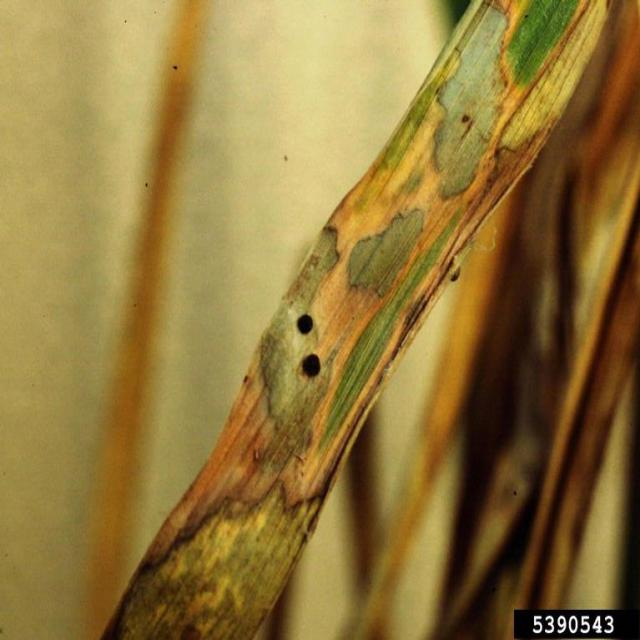Bacterial leaf blight: (100, 0, 608, 636)
